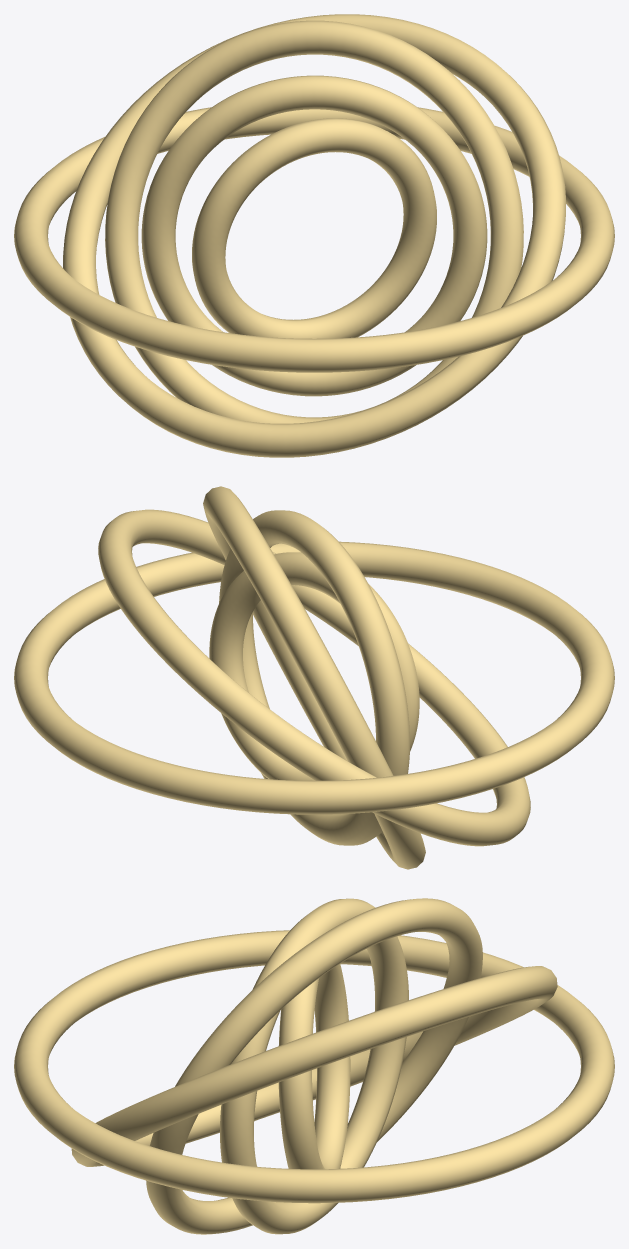
The model's file is ring-stack.glb.
3 views of the same model, one above another, from view 1: azimuth 30°, elevation 25°; view 2: azimuth 150°, elevation 25°; view 3: azimuth 270°, elevation 25° (orthographic).
Parts seen in each view (by area): view 1: ring-stack; view 2: ring-stack; view 3: ring-stack.
Part boxes in pixels (x1,y1,x2,y2): ring-stack: [14, 14, 614, 457]; ring-stack: [14, 486, 614, 869]; ring-stack: [14, 898, 614, 1234].
Size of the model in its own units: 2.12 by 1.39 by 2.12.
